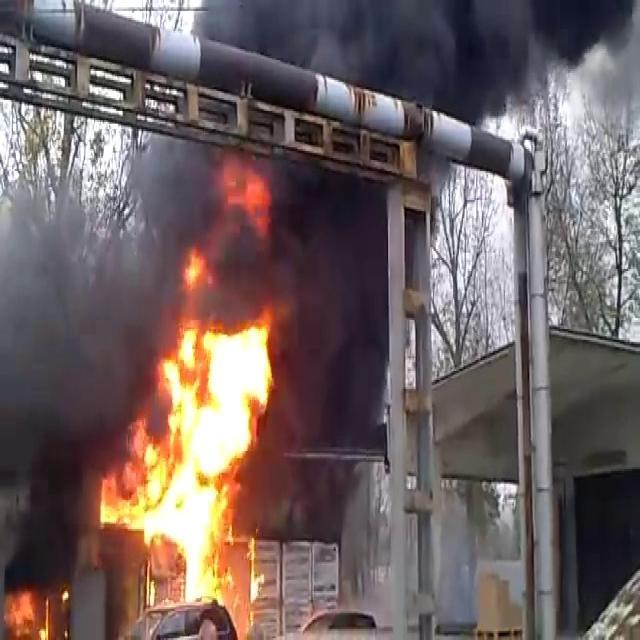Fire: (107, 284, 279, 606), (2, 578, 70, 640)
Smoke: (0, 155, 172, 528), (277, 0, 640, 100)
